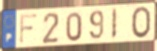0: (64, 10, 83, 43)
2: (42, 11, 61, 45)
9: (88, 9, 105, 41)
F: (18, 12, 39, 46)
I: (111, 7, 119, 41)
O: (131, 5, 152, 40)
